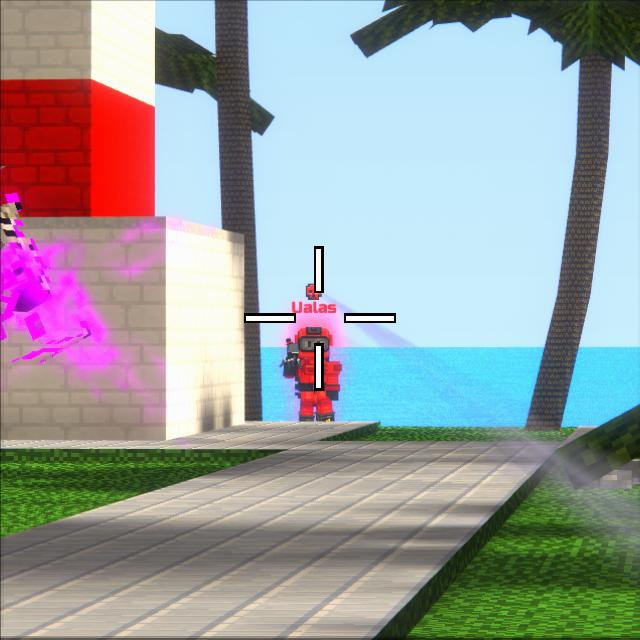Enemy: (287, 324, 335, 420)
